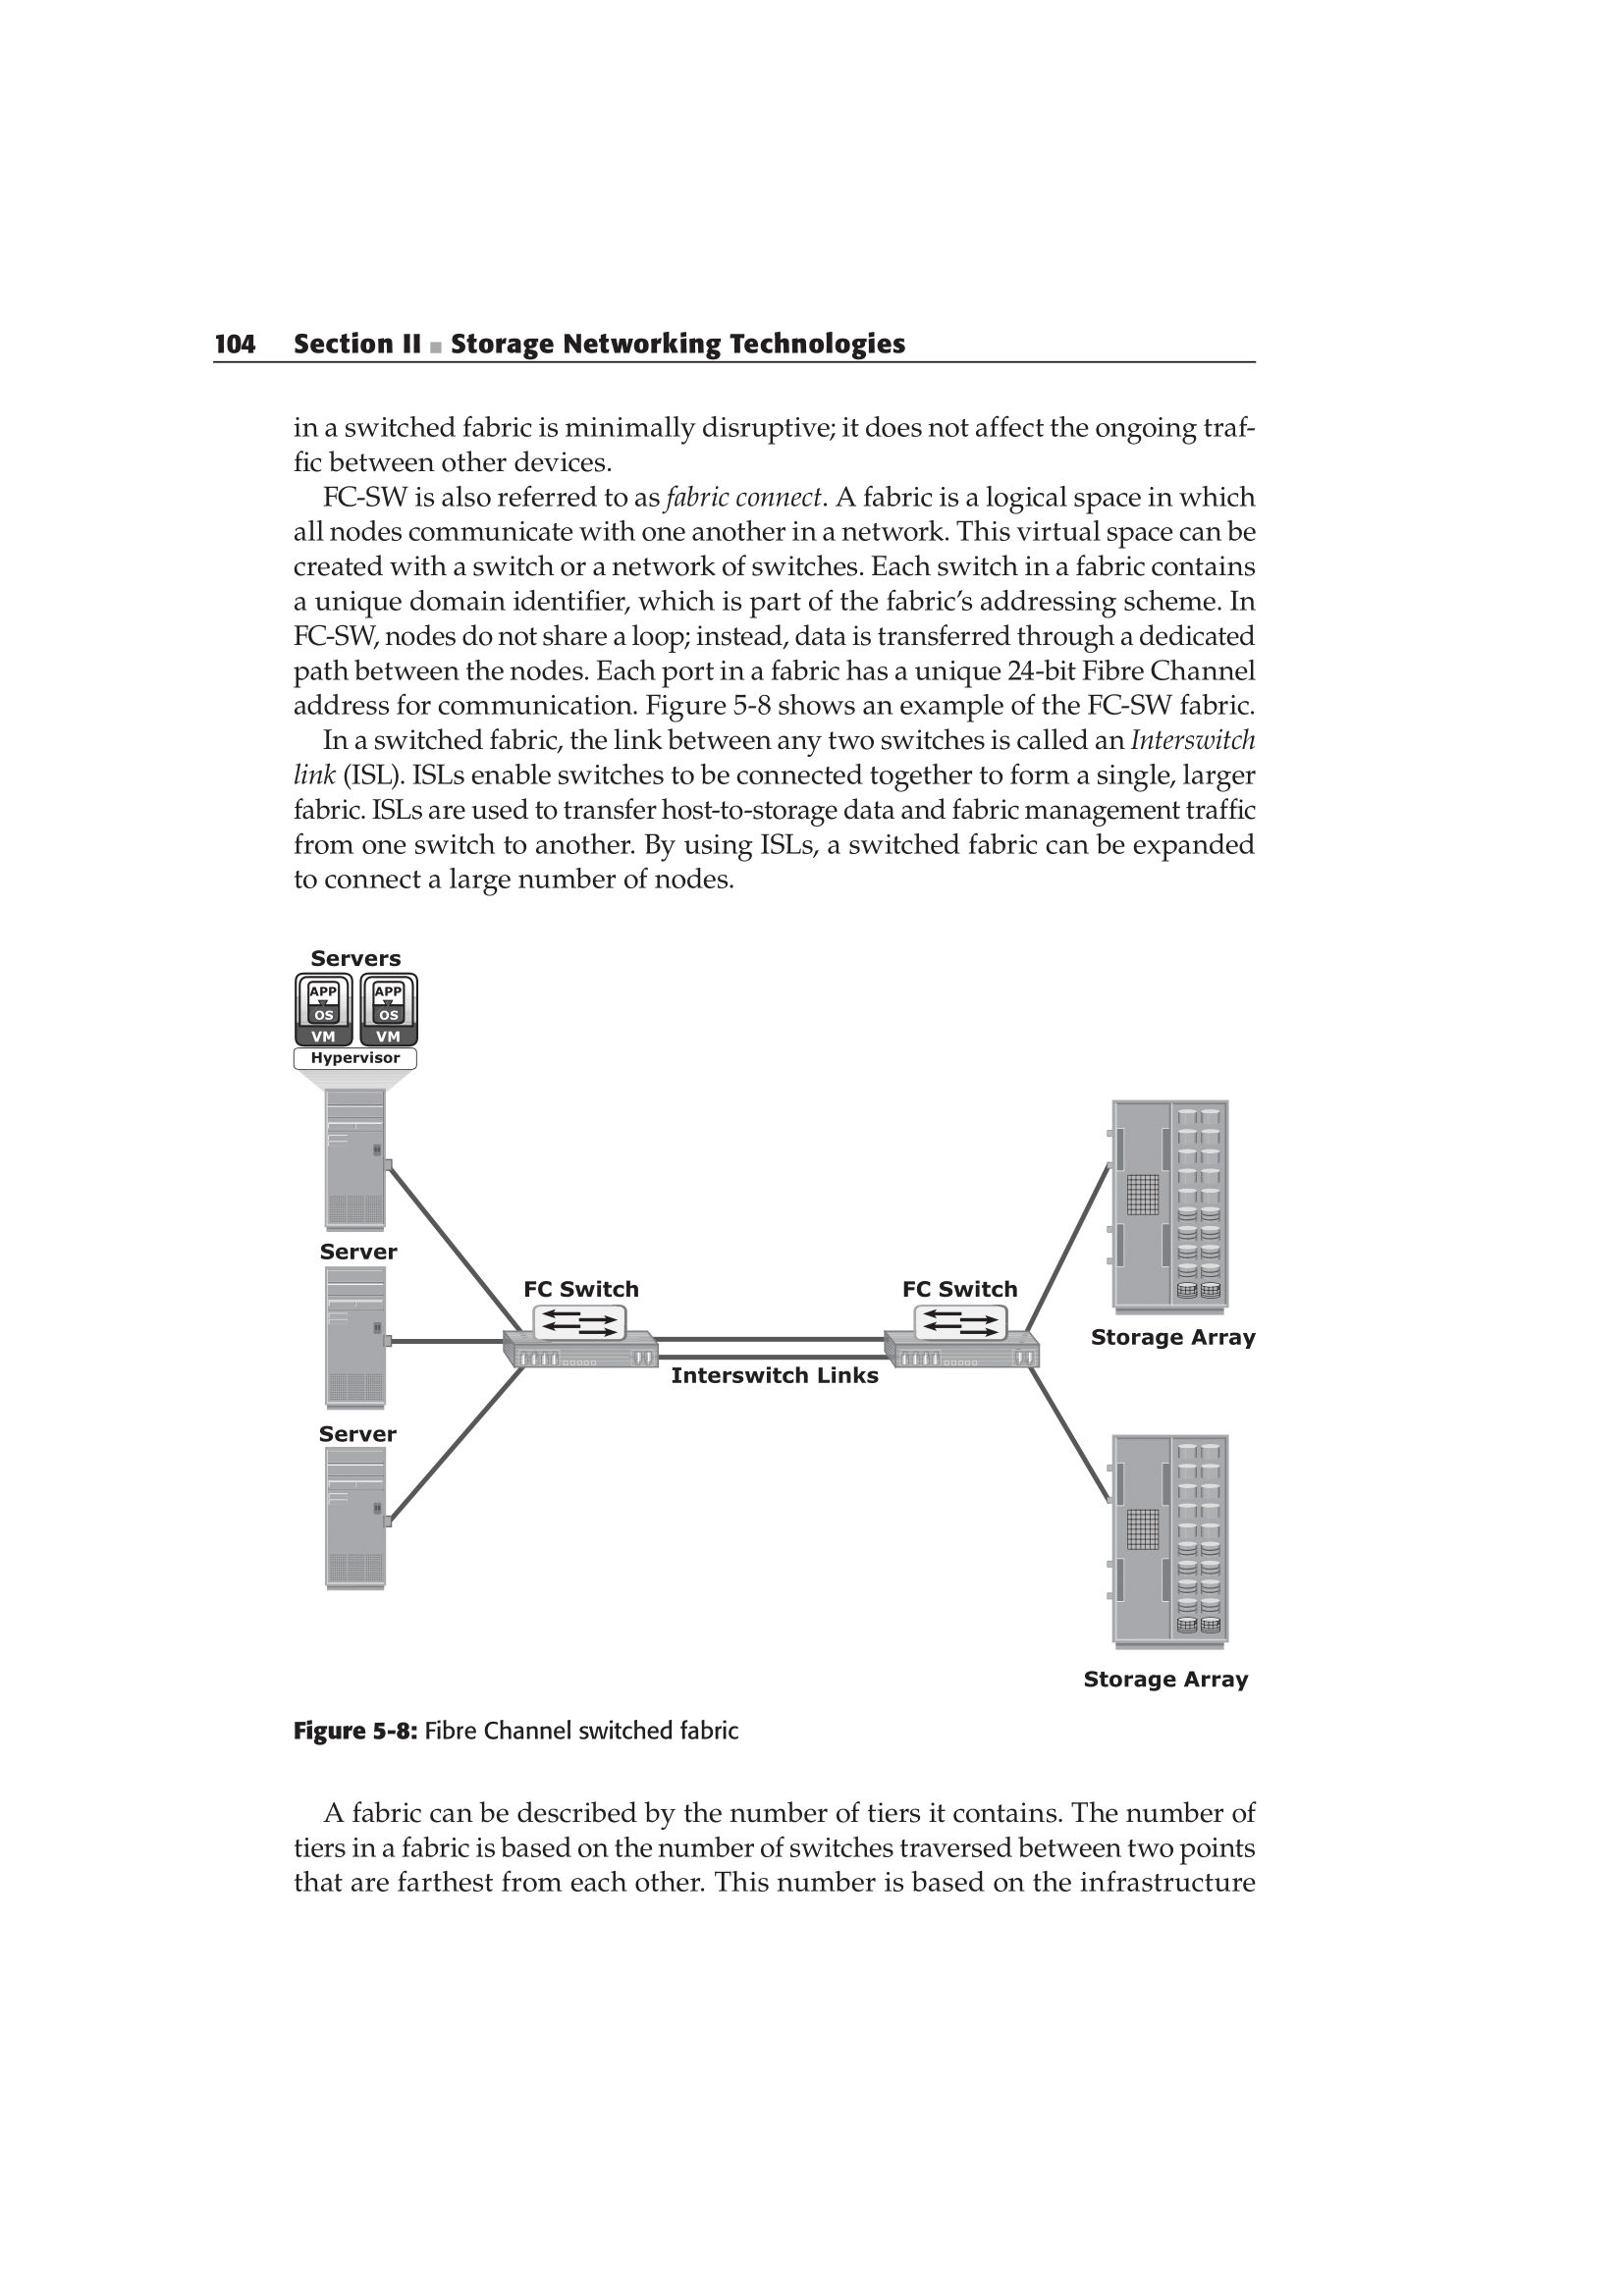Image: (279, 944, 1288, 1762)
Paragraph: (274, 462, 1259, 721), (283, 716, 1265, 927), (283, 1794, 1282, 1926), (283, 405, 1247, 470), (188, 283, 931, 360)
